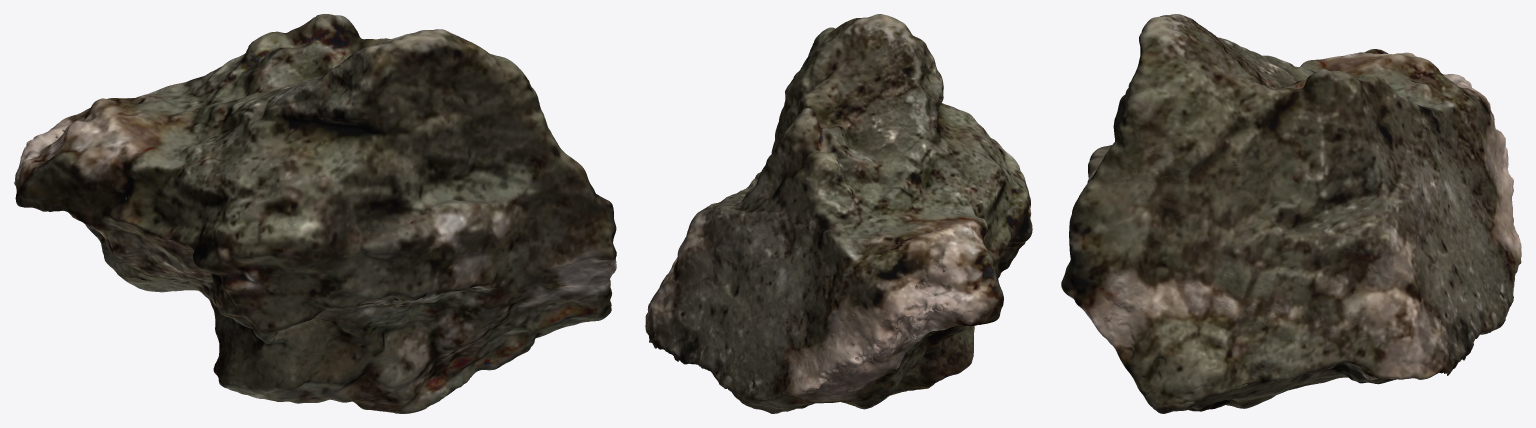
The model's file is epidote.glb.
The picture shows the model from 3 angles, left to right: view 1: azimuth 30°, elevation 25°; view 2: azimuth 150°, elevation 25°; view 3: azimuth 270°, elevation 25°; orthographic projection. The views are drawn at different scales.
Visible parts, largest first — view 1: Object_2; view 2: Object_2; view 3: Object_2.
Boxes of the visible parts, x1,y1,x2,y2 form: Object_2: (14,14,616,413); Object_2: (645,14,1032,413); Object_2: (1061,14,1521,413).
Size of the model in its own units: 51.12 by 41.99 by 47.27.
Materials: 1 (1 with a texture image).
